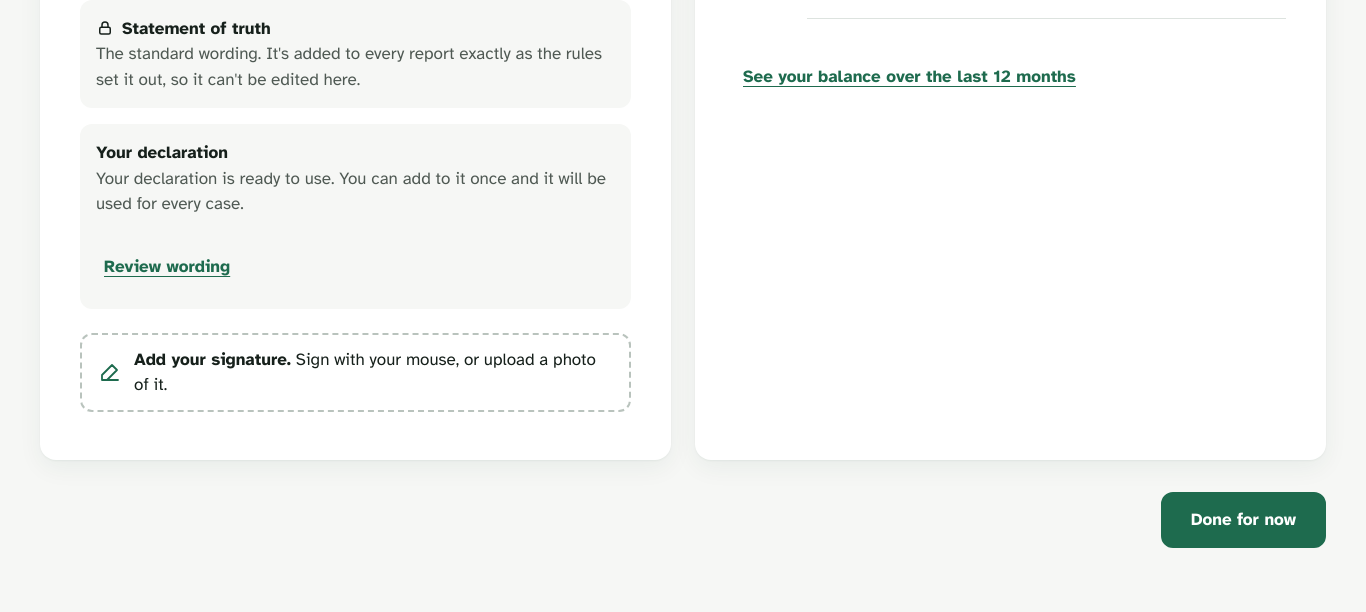
Test: clearing wipes the pad and switches saving off until you draw again
The width and height of the screenshot is (1366, 612).
(page scrolled)
Step 1. Click the button "Add your signature" → (356, 372), box [80,332,631,412]
(page scrolled)
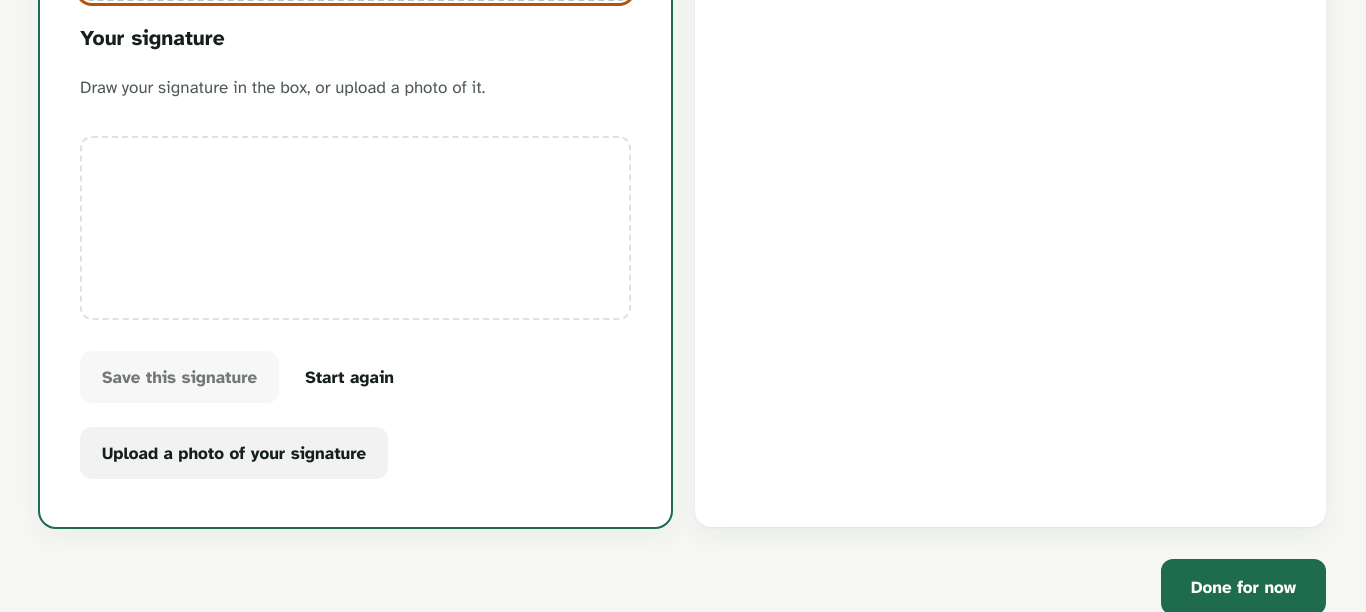
Check: the button "Save this signature" is disabled, box [80,351,279,403]
Step 2. Press the mouse on the picture named "Box to draw your signature in" → (356, 228), box [80,136,631,320]
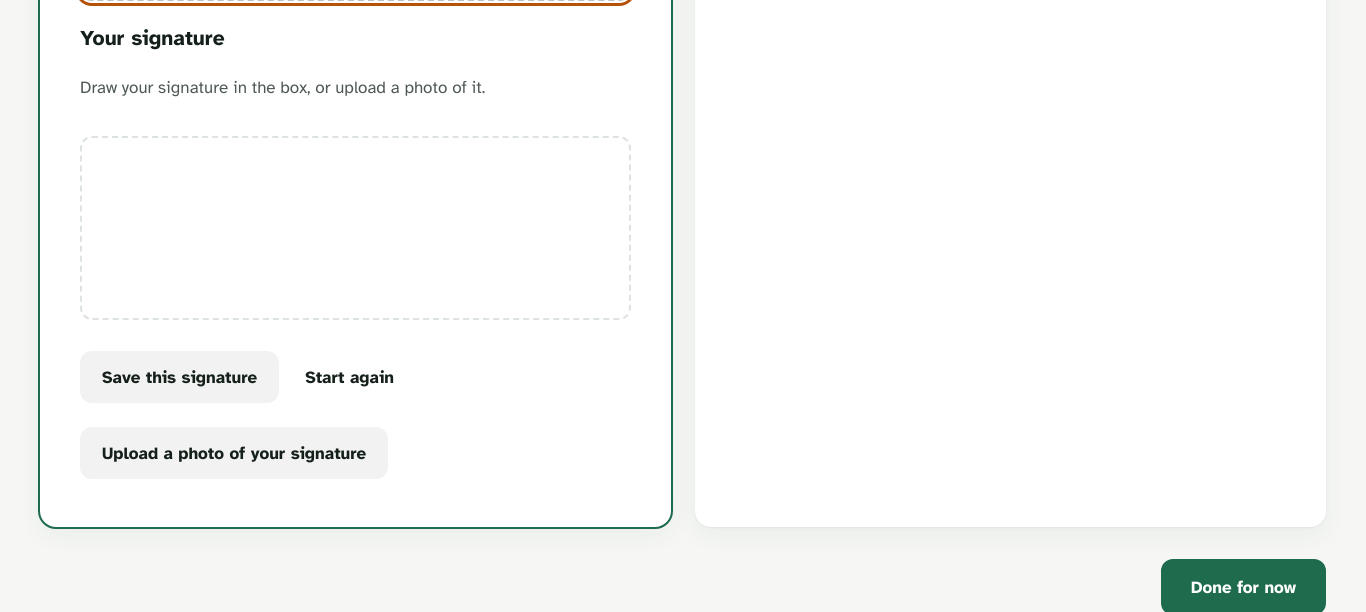
Check: the button "Save this signature" is enabled, box [80,351,279,403]
Step 3. Click the button "Start again" → (350, 377), box [291,351,408,403]
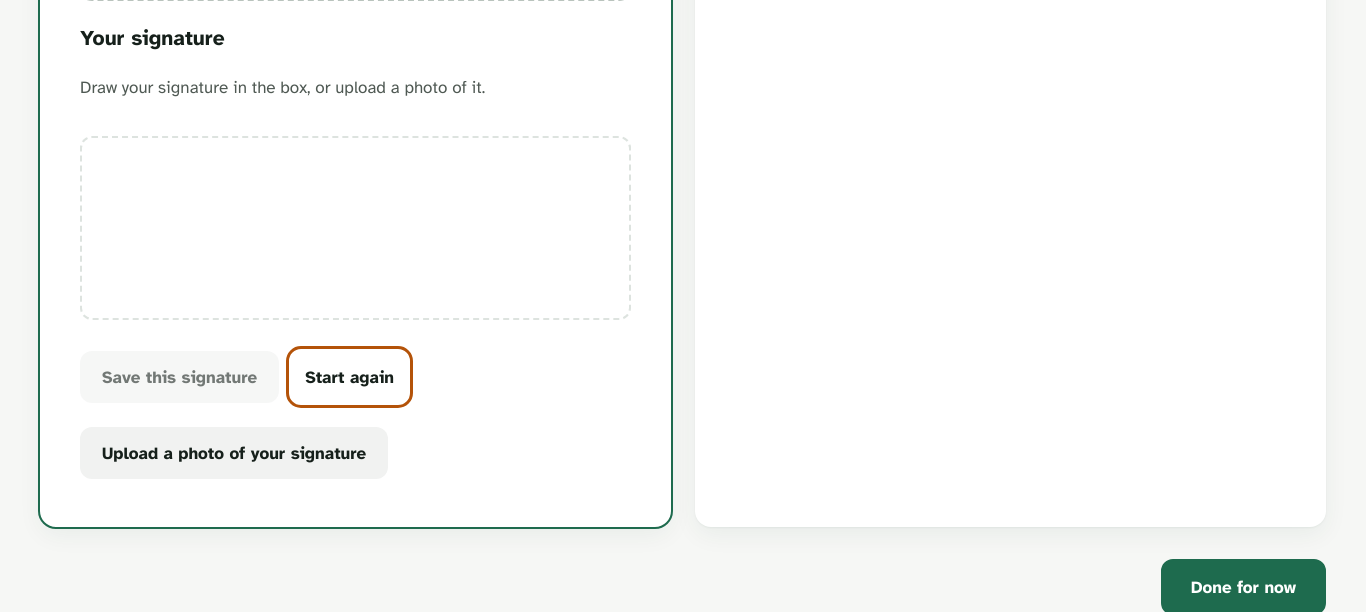
Check: the button "Save this signature" is disabled, box [80,351,279,403]
